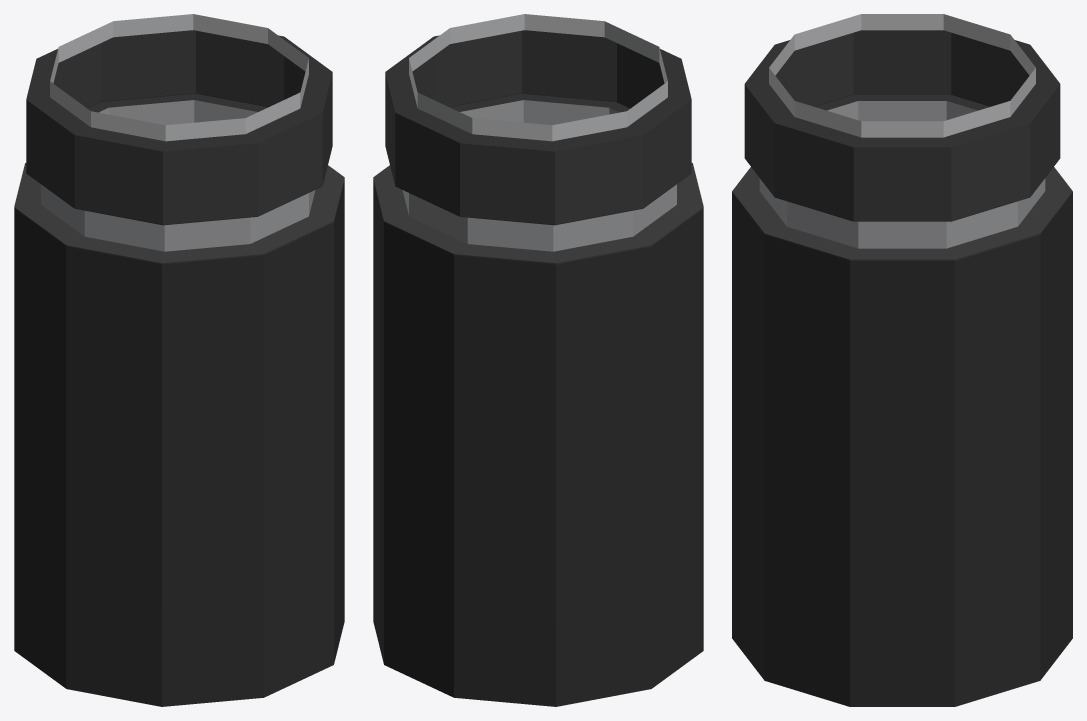
File: RotatingPlatformPillar.fbx
The picture shows the model from 3 angles, left to right: view 1: azimuth 30°, elevation 25°; view 2: azimuth 150°, elevation 25°; view 3: azimuth 270°, elevation 25°; orthographic projection.
Visible parts, largest first — view 1: RotatingPlatformPillar; view 2: RotatingPlatformPillar; view 3: RotatingPlatformPillar.
Part boxes in pixels (box(x1,y1,x2,y2)): RotatingPlatformPillar: box(14, 14, 344, 706); RotatingPlatformPillar: box(373, 14, 703, 706); RotatingPlatformPillar: box(732, 14, 1072, 706).
Bounding box in the file's own units: 263 × 512 × 277.
